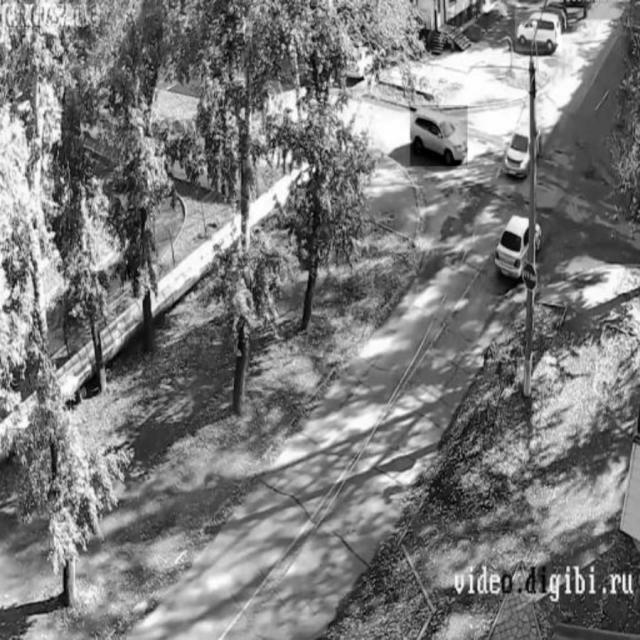vehicle: (411, 106, 468, 167), (495, 214, 542, 278), (516, 9, 563, 51), (503, 124, 529, 174)
